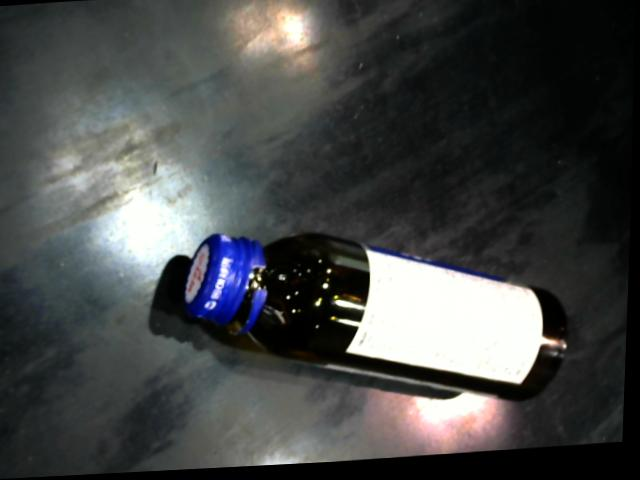glass: (163, 224, 587, 417)
